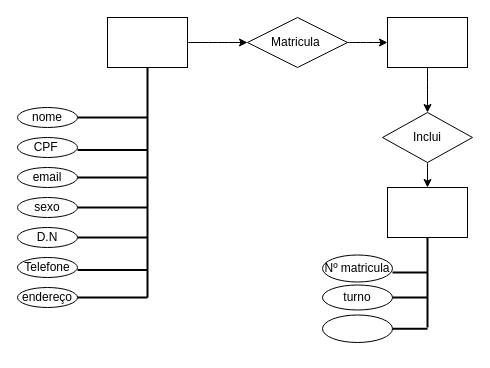
The diagram is 490 pixels wide and 368 high, and some of its shapes have lost their labels. Here are the shapes that lost their labels. From the top down, the box of each, then its label:
(106, 16, 188, 68): ALUNO
(386, 16, 468, 68): ESCOLA
(386, 186, 468, 238): TURMA
(322, 314, 392, 342): tipo do curso
